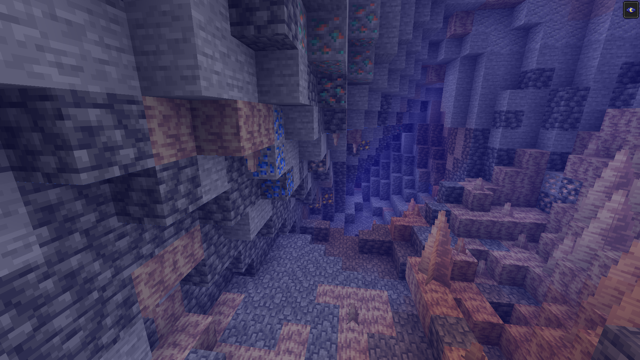copper: (294, 1, 377, 107)
gold: (313, 192, 336, 206), (360, 139, 371, 151)
iron: (542, 169, 580, 219), (306, 159, 330, 174)
lapis: (252, 106, 294, 195)
